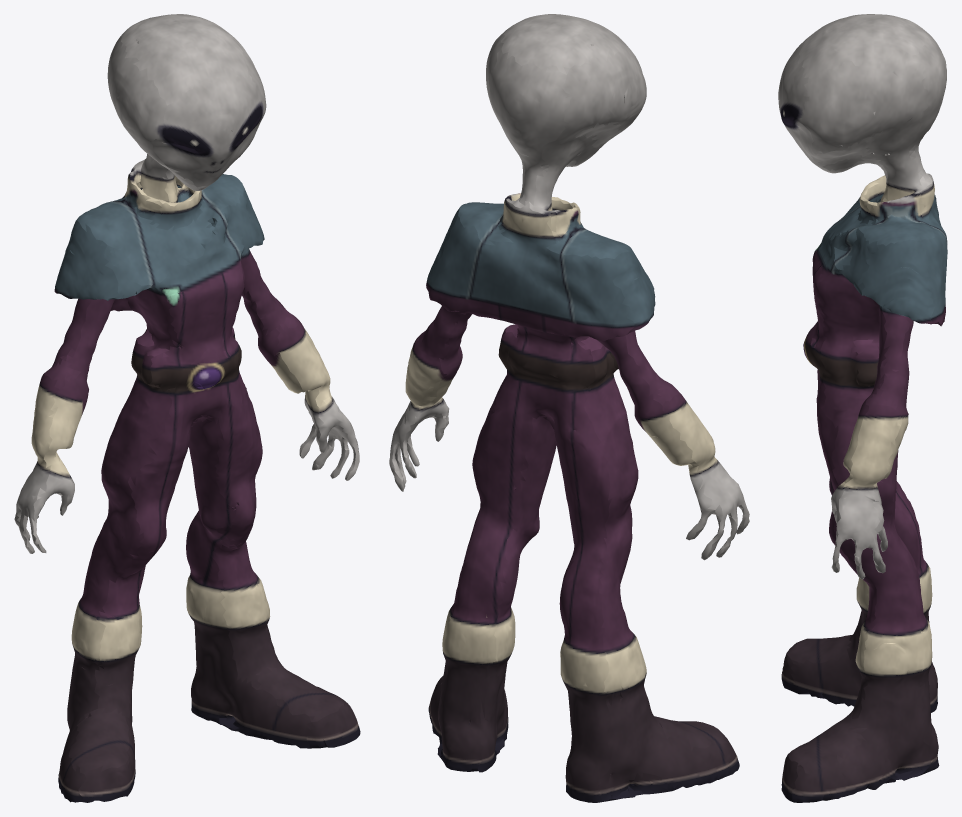
Rendered from paint-articulated.glb.
3 views of the same model, side by side, from view 1: azimuth 30°, elevation 25°; view 2: azimuth 150°, elevation 25°; view 3: azimuth 270°, elevation 25° (orthographic). The views are drawn at different scales.
Parts seen in each view (by area): view 1: Vey_Rig; view 2: Vey_Rig; view 3: Vey_Rig.
Boxes of the visible parts, x1,y1,x2,y2 form: Vey_Rig: [14, 14, 360, 802]; Vey_Rig: [389, 14, 749, 802]; Vey_Rig: [778, 14, 947, 802].
Size of the model in its own units: 0.9679 by 2 by 0.4319.
Materials: 1 (1 with a texture image).
